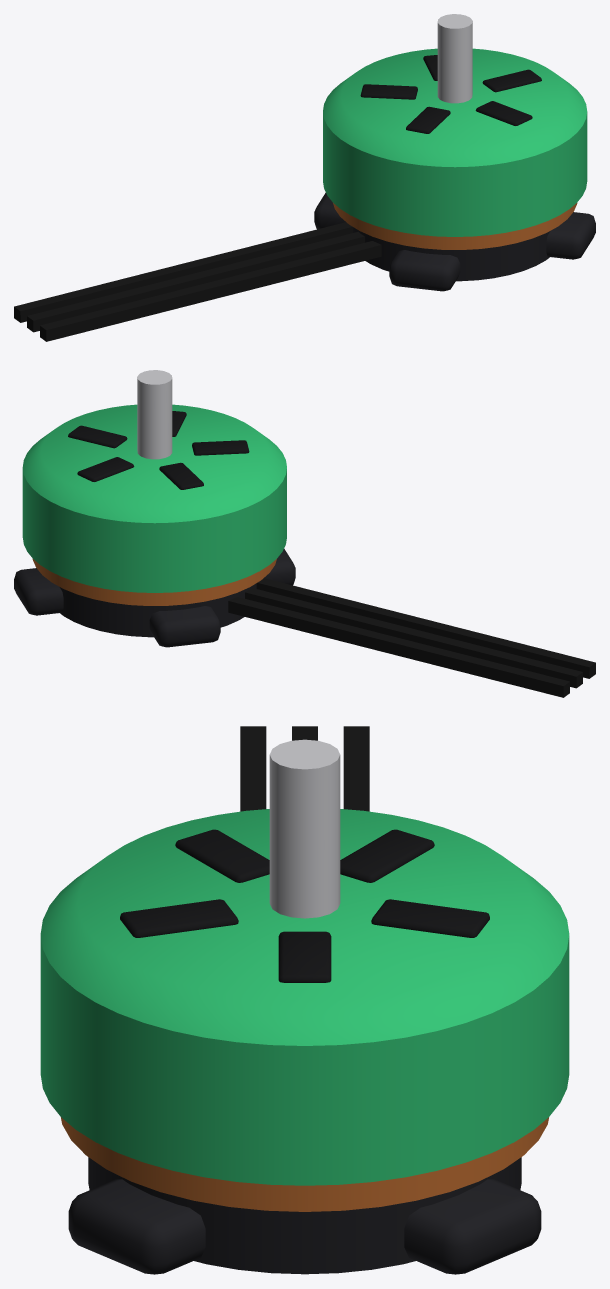
Rendered from motor_1804.glb.
The picture shows the model from 3 angles, top to bottom: view 1: azimuth 30°, elevation 25°; view 2: azimuth 150°, elevation 25°; view 3: azimuth 270°, elevation 25°; orthographic projection. The views are drawn at different scales.
Visible parts, largest first — view 1: motor_1804_M_Bell_1804, motor_1804_M_WireBlack, motor_1804_M_MotorBase, motor_1804_M_MotorDark, motor_1804_M_Steel, motor_1804_M_Copper; view 2: motor_1804_M_Bell_1804, motor_1804_M_WireBlack, motor_1804_M_MotorBase, motor_1804_M_MotorDark, motor_1804_M_Steel, motor_1804_M_Copper; view 3: motor_1804_M_Bell_1804, motor_1804_M_MotorBase, motor_1804_M_MotorDark, motor_1804_M_Steel, motor_1804_M_Copper, motor_1804_M_WireBlack.
Boxes of the visible parts, x1=… form: motor_1804_M_Bell_1804: x1=323, y1=48, x2=587, y2=236; motor_1804_M_WireBlack: x1=14, y1=222, x2=381, y2=341; motor_1804_M_MotorBase: x1=314, y1=192, x2=595, y2=291; motor_1804_M_MotorDark: x1=360, y1=55, x2=541, y2=133; motor_1804_M_Steel: x1=437, y1=14, x2=472, y2=103; motor_1804_M_Copper: x1=333, y1=203, x2=577, y2=249; motor_1804_M_Bell_1804: x1=22, y1=404, x2=286, y2=592; motor_1804_M_WireBlack: x1=228, y1=578, x2=595, y2=697; motor_1804_M_MotorBase: x1=14, y1=548, x2=295, y2=647; motor_1804_M_MotorDark: x1=68, y1=411, x2=249, y2=489; motor_1804_M_Steel: x1=137, y1=370, x2=172, y2=459; motor_1804_M_Copper: x1=32, y1=559, x2=276, y2=605; motor_1804_M_Bell_1804: x1=40, y1=809, x2=569, y2=1185; motor_1804_M_MotorBase: x1=68, y1=1157, x2=541, y2=1274; motor_1804_M_MotorDark: x1=120, y1=829, x2=489, y2=982; motor_1804_M_Steel: x1=269, y1=739, x2=340, y2=918; motor_1804_M_Copper: x1=61, y1=1117, x2=548, y2=1211; motor_1804_M_WireBlack: x1=240, y1=726, x2=369, y2=811.
Bounding box in the file's own units: 0.053 × 0.0201 × 0.0225.
